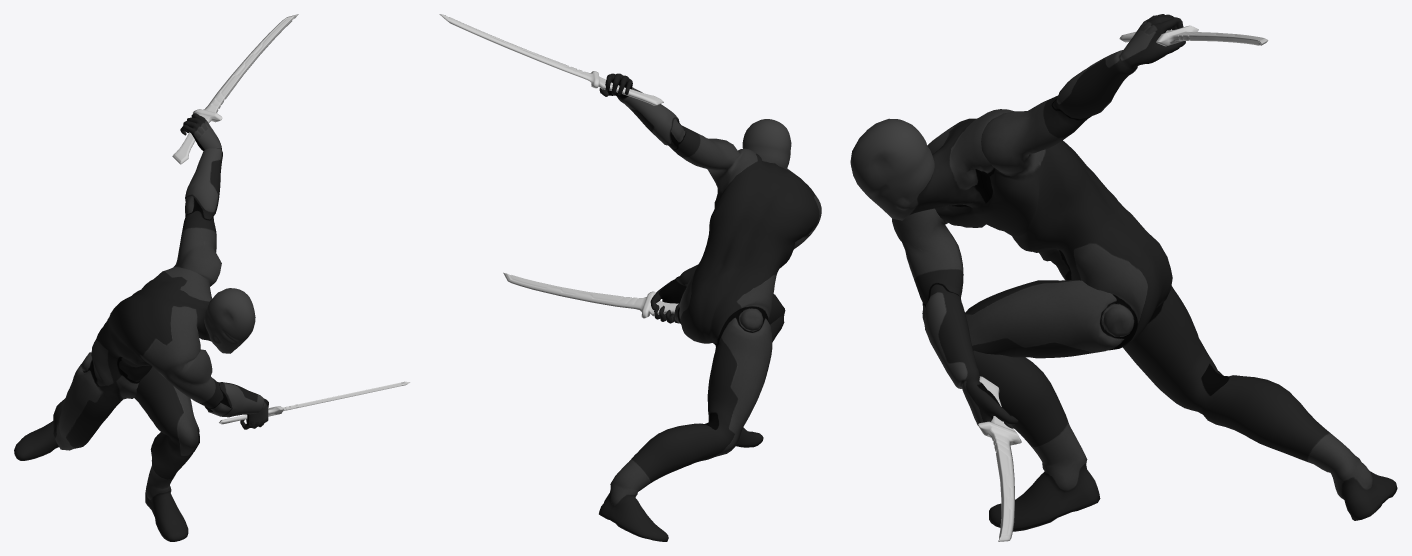
The picture shows the model from 3 angles, left to right: view 1: azimuth 30°, elevation 25°; view 2: azimuth 150°, elevation 25°; view 3: azimuth 270°, elevation 25°; orthographic projection. The views are drawn at different scales.
Visible parts, largest first — view 1: Cyborg_Ninja_Killer, Sword_l, Sword_l001; view 2: Cyborg_Ninja_Killer, Sword_l001, Sword_l; view 3: Cyborg_Ninja_Killer, Sword_l001, Sword_l.
Boxes of the visible parts, x1,y1,x2,y2 form: Cyborg_Ninja_Killer: (14, 113, 268, 541); Sword_l: (172, 14, 298, 164); Sword_l001: (219, 381, 410, 424); Cyborg_Ninja_Killer: (599, 73, 821, 541); Sword_l001: (503, 272, 678, 318); Sword_l: (439, 14, 663, 105); Cyborg_Ninja_Killer: (850, 14, 1397, 531); Sword_l001: (978, 376, 1021, 541); Sword_l: (1119, 25, 1268, 46).
Bounding box in the file's own units: 133 × 178 × 140.
